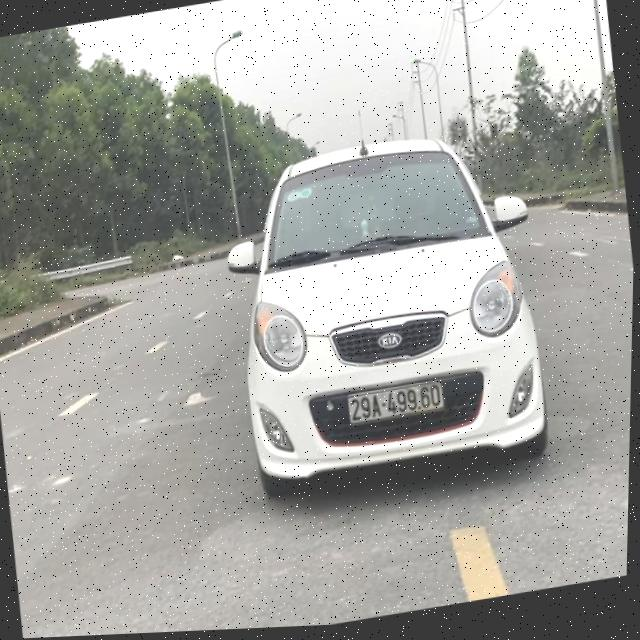car: (211, 119, 557, 511)
plate: (342, 373, 452, 429)
